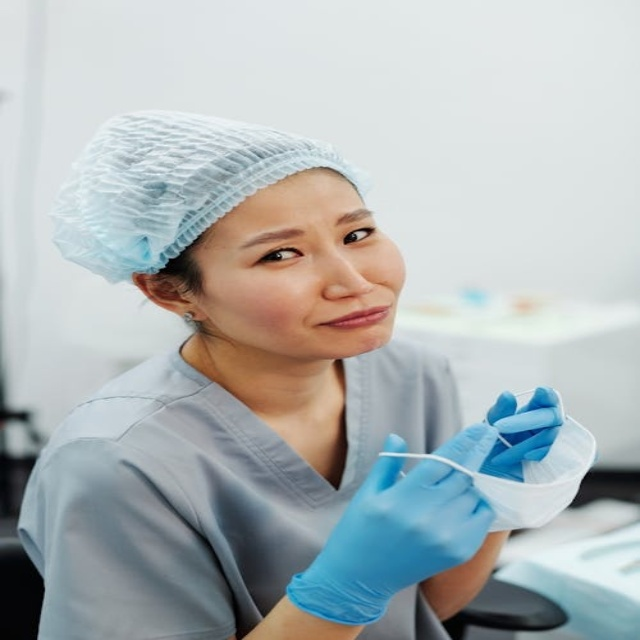Guantes: (286, 428, 503, 625), (473, 386, 566, 481)
Sin_gafas: (236, 205, 388, 274)
Sin_mascara: (307, 302, 397, 359)
